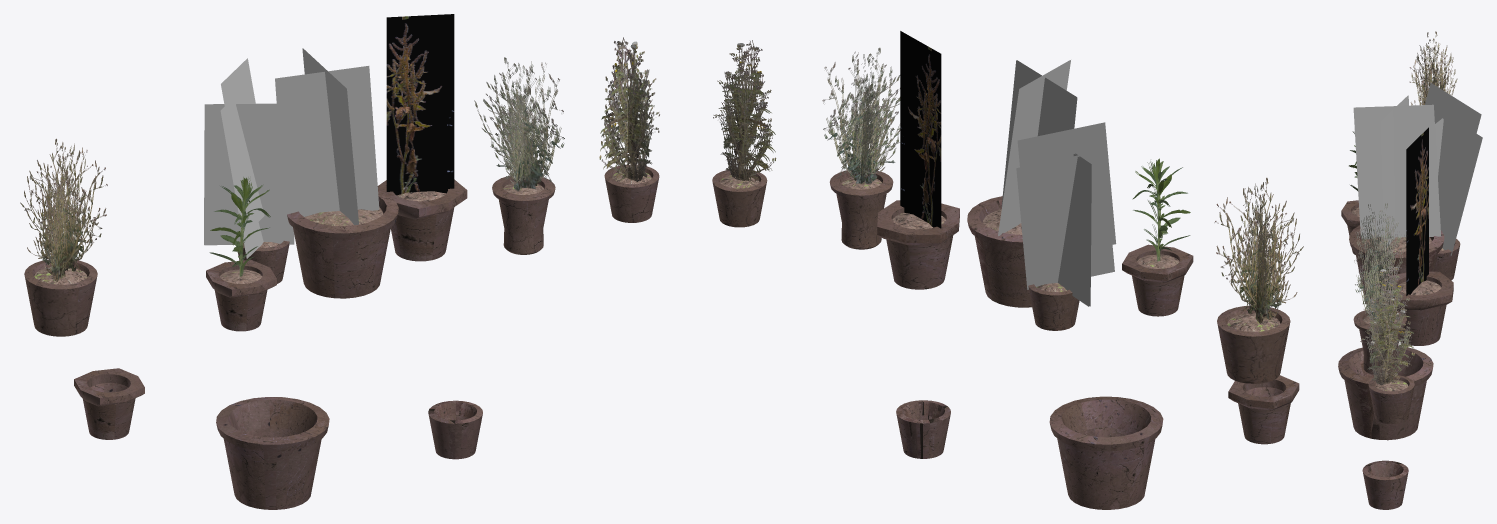
File: SM_Scene_A_PlantsPots00.fbx
3 renders of one model, left to right at view 1: azimuth 30°, elevation 25°; view 2: azimuth 150°, elevation 25°; view 3: azimuth 270°, elevation 25°, orthographic. The views are drawn at different scales.
Parts seen in each view (by area): view 1: SM_Scene_A_PlantsPots00; view 2: SM_Scene_A_PlantsPots00; view 3: SM_Scene_A_PlantsPots00.
Part boxes in pixels (x1,y1,x2,y2): SM_Scene_A_PlantsPots00: [20, 14, 659, 509]; SM_Scene_A_PlantsPots00: [712, 31, 1303, 509]; SM_Scene_A_PlantsPots00: [1338, 31, 1482, 509].
Size of the model in its own units: 412 by 271 by 99.3.
